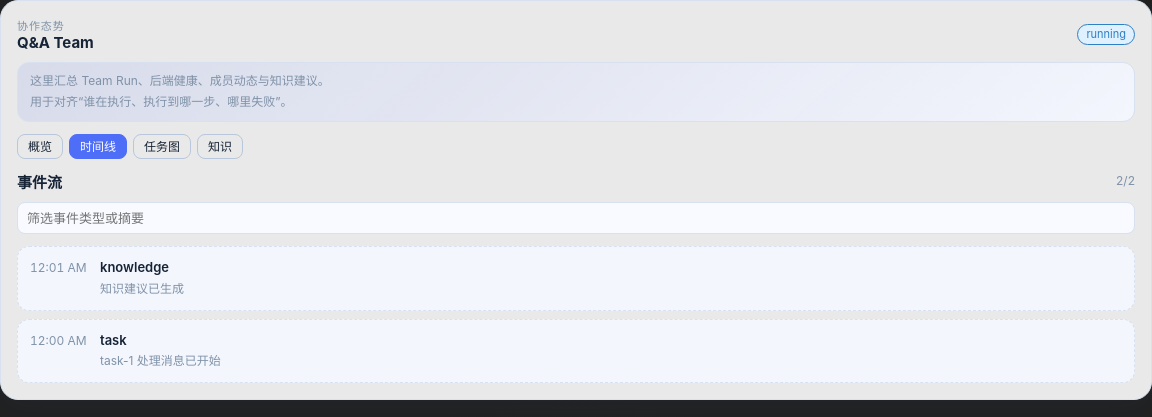
Test: RightSidebar › 支持在时间线中筛选事件
Click the button "时间线" at point(98, 146), box [69,134,127,159]
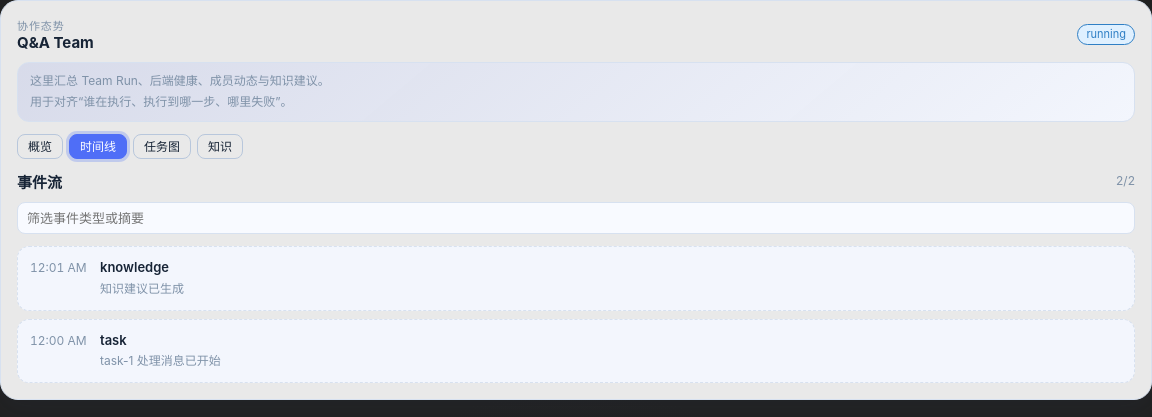
Type "knowledge" into the field with placeholder "筛选事件类型或摘要" at point(576, 218), box [17,202,1135,234]
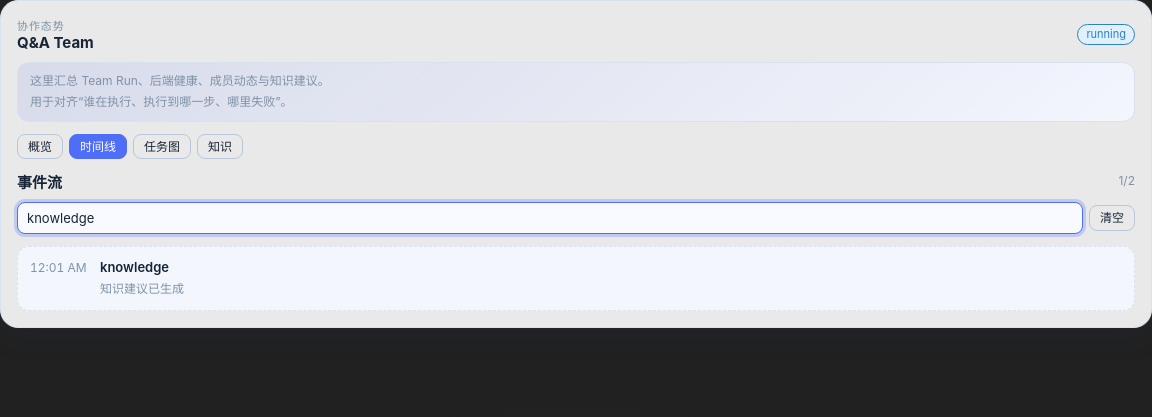
expect the text "知识建议已生成" is shown: met, box [100,281,184,296]
expect the text "task-1 处理消息已开始" is gone: met
